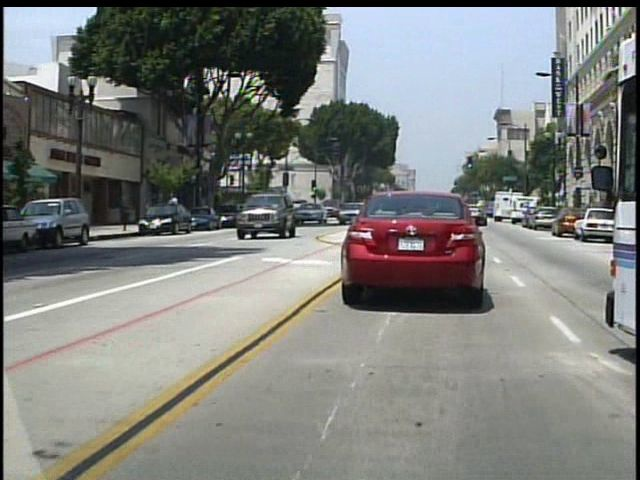person: (172, 192, 186, 225)
